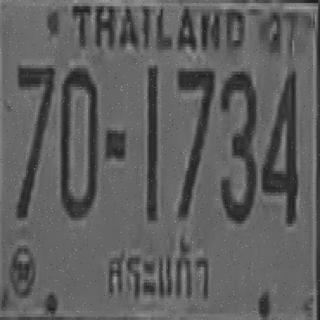N00: (59, 65, 97, 217)
N01: (146, 64, 156, 219)
N03: (220, 68, 254, 220)
N04: (261, 68, 297, 220)
N07: (16, 62, 54, 217), (176, 65, 212, 214)
P55: (101, 235, 214, 310)
